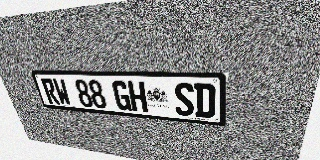8: (73, 79, 94, 107), (87, 80, 107, 109)
D: (194, 83, 215, 118)
G: (111, 80, 132, 111)
H: (127, 81, 148, 112)
R: (40, 78, 60, 104)
S: (174, 82, 194, 116)
W: (52, 78, 72, 105)
